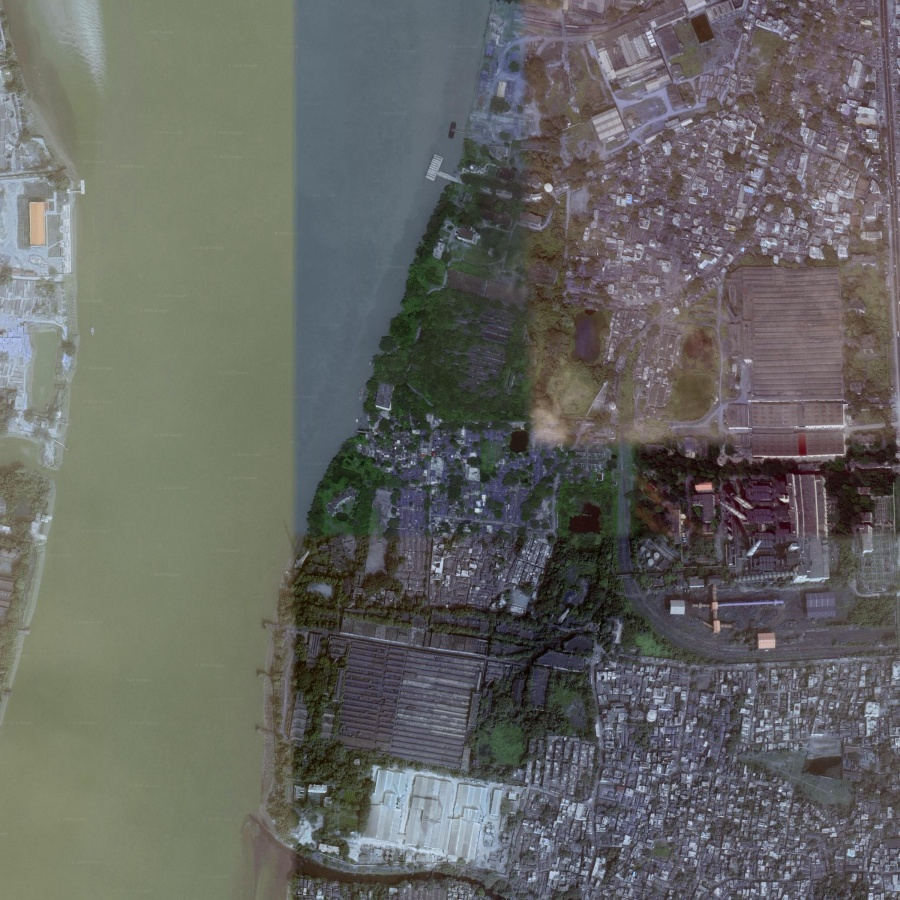PowerPlant: (624, 409, 869, 648)
